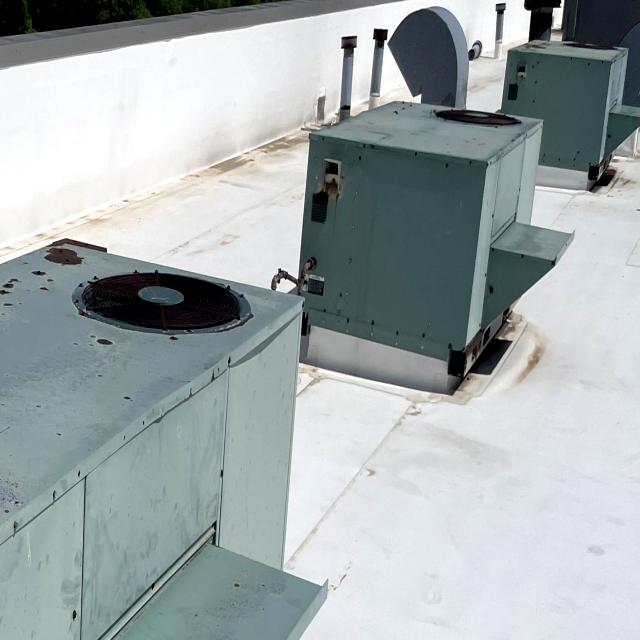RTU: (0, 225, 338, 640), (294, 88, 579, 396), (502, 21, 640, 193)
